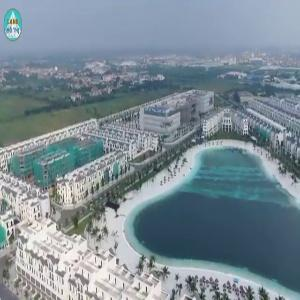drone: (82, 175, 148, 241)
